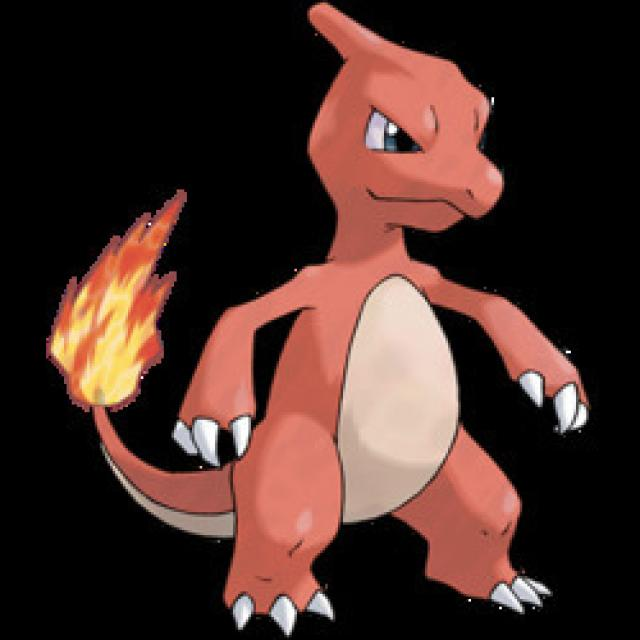Charmeleon: (160, 15, 573, 620)
